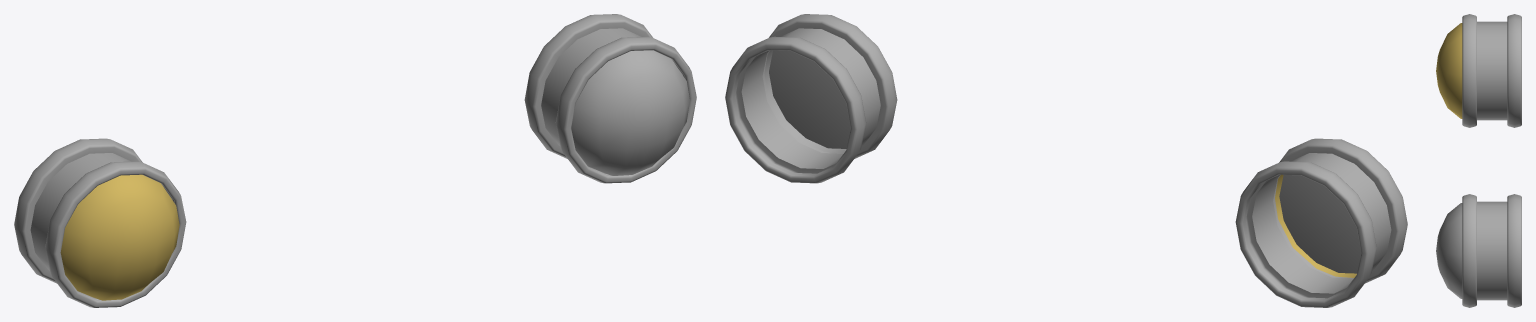
File: LampsEyes.fbx
3 views of the same model, side by side, from view 1: azimuth 30°, elevation 25°; view 2: azimuth 150°, elevation 25°; view 3: azimuth 270°, elevation 25° (orthographic). The views are drawn at different scales.
Visible parts, largest first — view 1: LampEyeL, LampEyeR; view 2: LampEyeL, LampEyeR; view 3: LampEyeL, LampEyeR.
Boxes of the visible parts, x1,y1,x2,y2 form: LampEyeL: (14, 138, 186, 307); LampEyeR: (524, 14, 696, 183); LampEyeL: (1235, 138, 1407, 307); LampEyeR: (725, 14, 897, 183); LampEyeL: (1436, 14, 1521, 127); LampEyeR: (1436, 194, 1521, 307).
Size of the model in its own units: 35.83 by 7.57 by 5.7.
